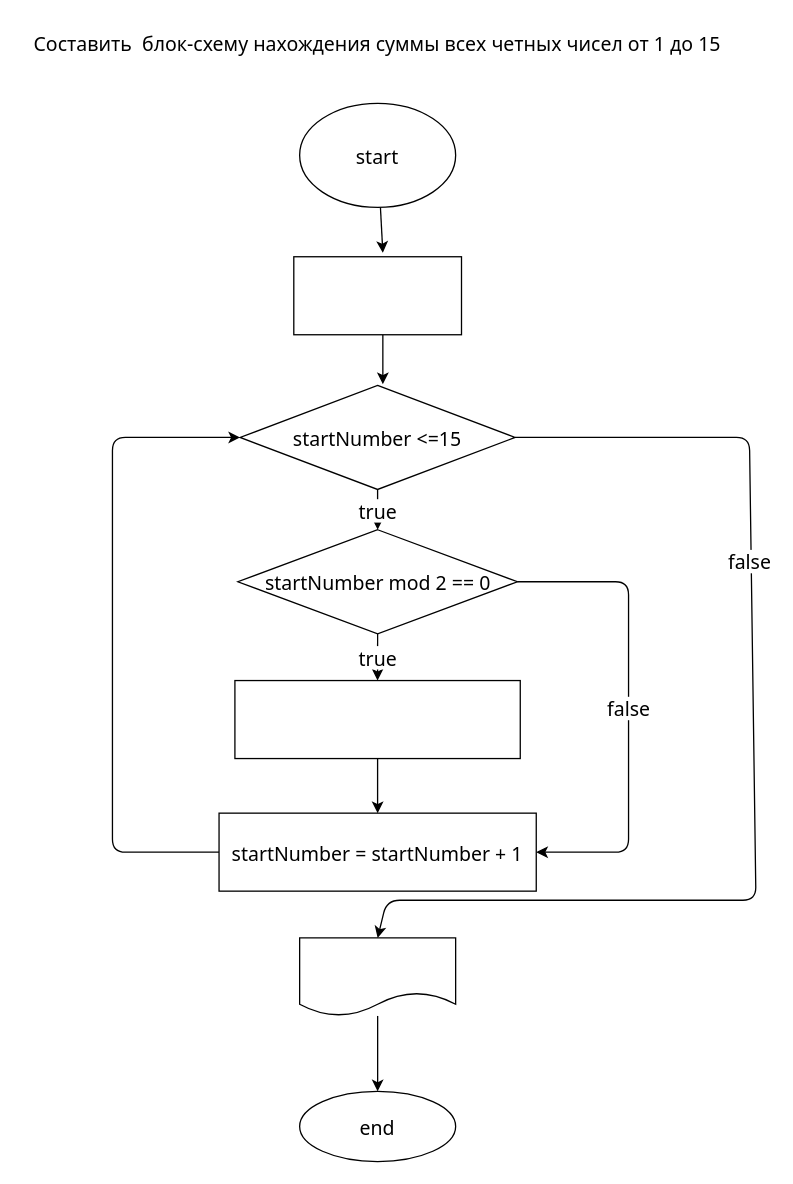
This 793x1184 diagram has some shape labels left out. The shapes that lost their labels are listed below. From the top down, each one's centre as x and y in pixels, then its label:
(x=377, y=295): sum = 0 startNumber = 1
(x=377, y=719): sum = sum + startNumber // sum += startNumber
(x=377, y=976): sum
